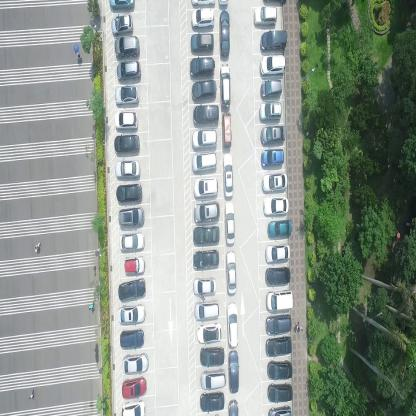car: (118, 277, 147, 303), (122, 376, 147, 401), (118, 206, 144, 230), (265, 289, 293, 311), (117, 302, 144, 324), (265, 313, 292, 335), (227, 302, 239, 350), (116, 59, 141, 82), (266, 335, 291, 358), (118, 231, 144, 253), (191, 152, 217, 174), (191, 129, 217, 151), (122, 353, 148, 375), (200, 368, 226, 390), (194, 201, 220, 223), (260, 31, 287, 52), (115, 36, 140, 58), (115, 159, 140, 181), (194, 300, 219, 322), (196, 322, 221, 344), (194, 176, 219, 198), (115, 184, 142, 204), (262, 173, 289, 193), (224, 201, 236, 246), (192, 80, 216, 102), (200, 345, 224, 367), (219, 9, 230, 57), (114, 109, 139, 130), (261, 55, 286, 76), (265, 242, 290, 263), (119, 328, 144, 349), (200, 391, 225, 412), (193, 105, 219, 125), (114, 134, 140, 154), (266, 360, 292, 380), (194, 250, 220, 270), (111, 13, 133, 36), (115, 85, 140, 105), (265, 265, 290, 285), (226, 250, 237, 295), (190, 58, 216, 77), (263, 197, 289, 216), (193, 226, 220, 244), (228, 350, 239, 394), (190, 33, 214, 53), (193, 276, 217, 296), (253, 6, 277, 26), (260, 125, 285, 144), (220, 61, 230, 108), (267, 382, 293, 400), (191, 9, 215, 28), (222, 152, 232, 197), (266, 220, 291, 238), (123, 254, 145, 274), (261, 148, 284, 167), (259, 102, 282, 120), (260, 80, 282, 98), (222, 112, 232, 149), (120, 402, 145, 415), (268, 403, 292, 415), (109, 0, 135, 11), (228, 397, 239, 415), (190, 0, 216, 7)
